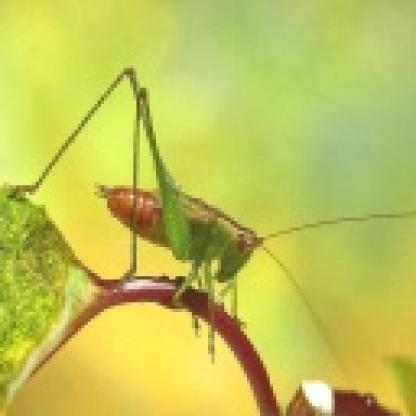grasshopper: (36, 69, 381, 342)
